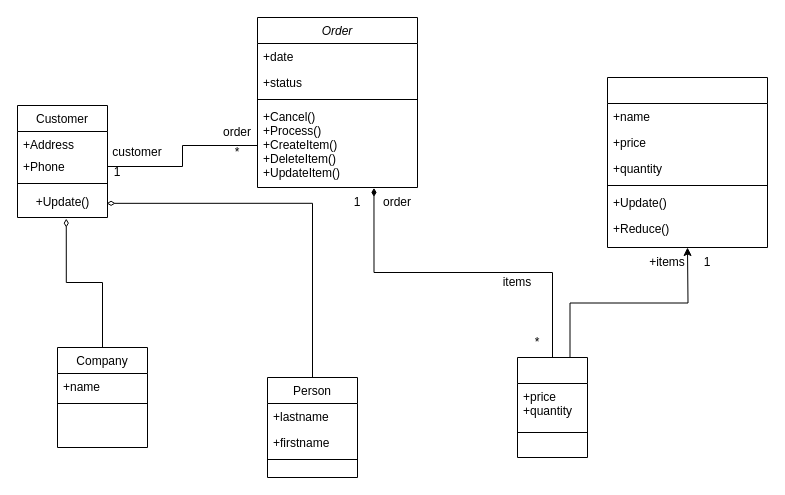
The diagram is 785 pixels wide and 495 high, and some of its shapes have lost their labels. The shapes that lost their labels are listed below. From the top down, each one's box as (x1, y1, x2, y2) in pixels, then its label:
(606, 76, 768, 248): Product
(516, 356, 588, 458): Item
